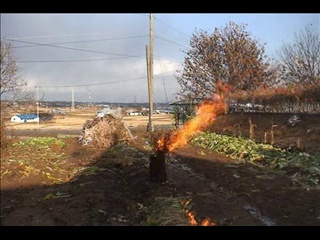fire: (154, 82, 228, 154), (179, 196, 215, 225)
